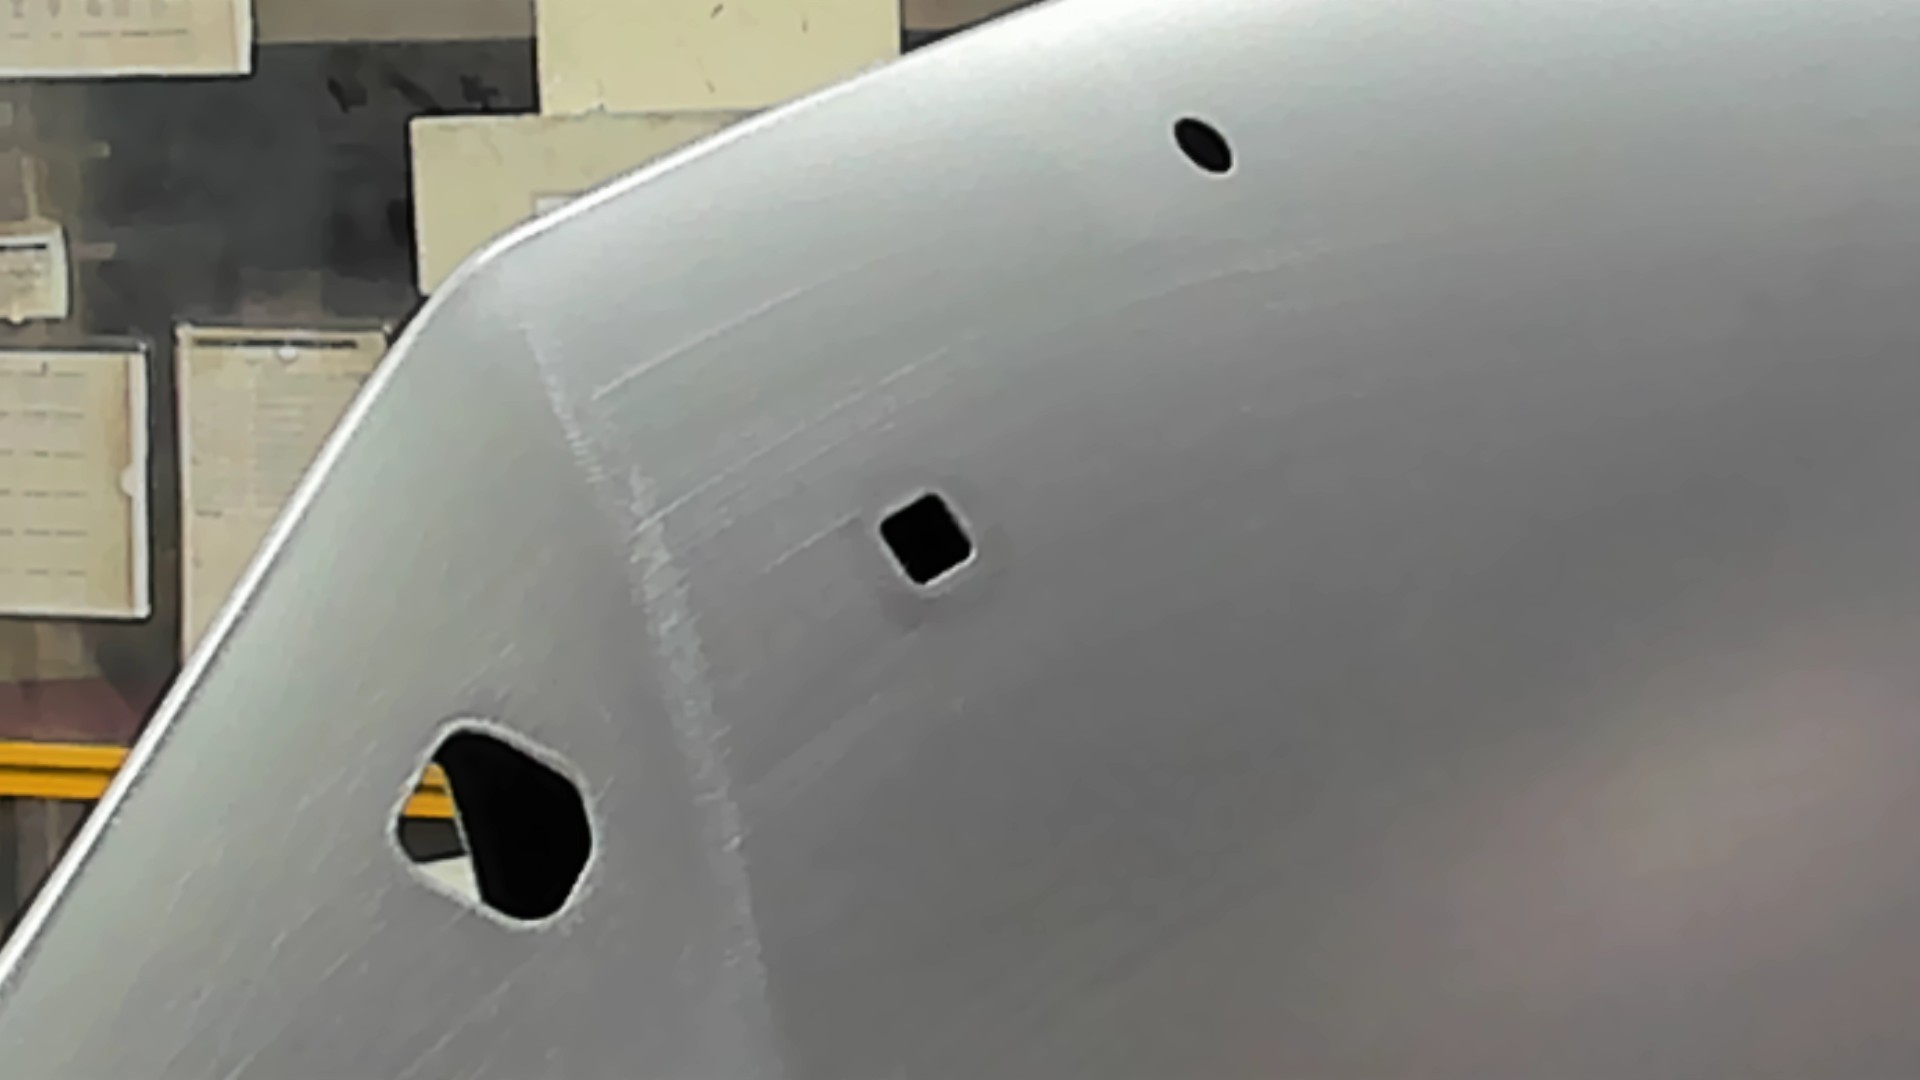chico: (1168, 111, 1238, 177)
grande: (384, 713, 600, 931)
mediano: (873, 487, 980, 591)
